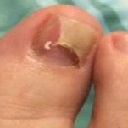Nail Fungal Infection: (40, 34, 84, 70)
